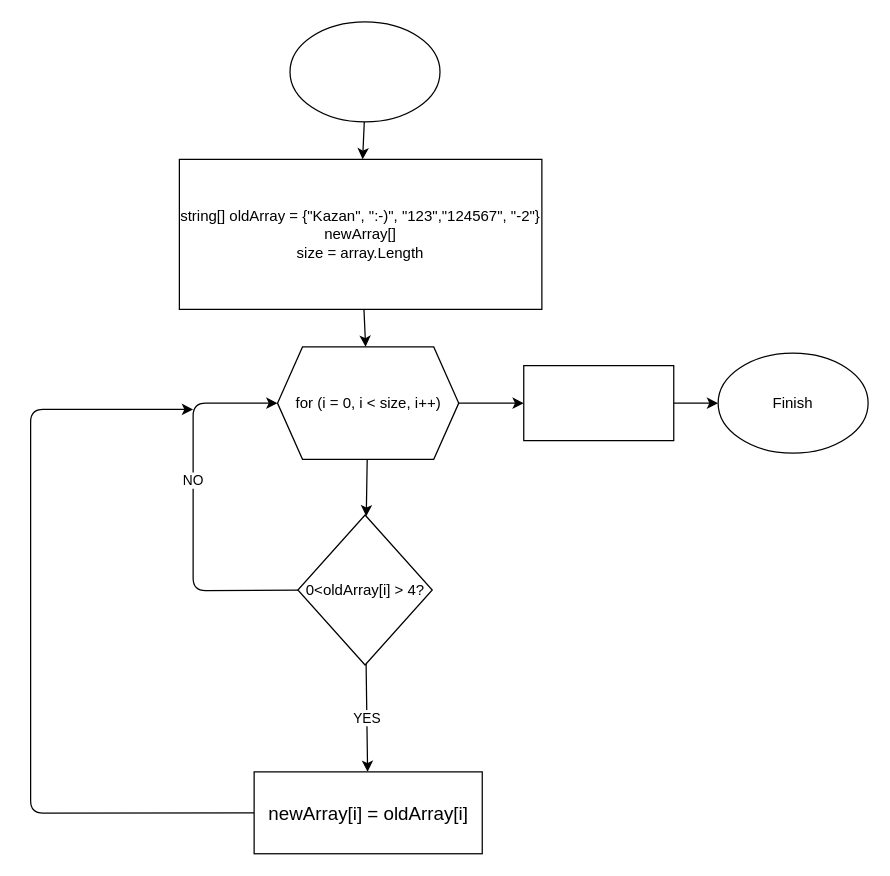
The diagram is 890 pixels wide and 876 high, and some of its shapes have lost their labels. The centre of each missing label's shape, as x and y in pixels:
Print(newArray): [598,402]
Start: [364,71]
